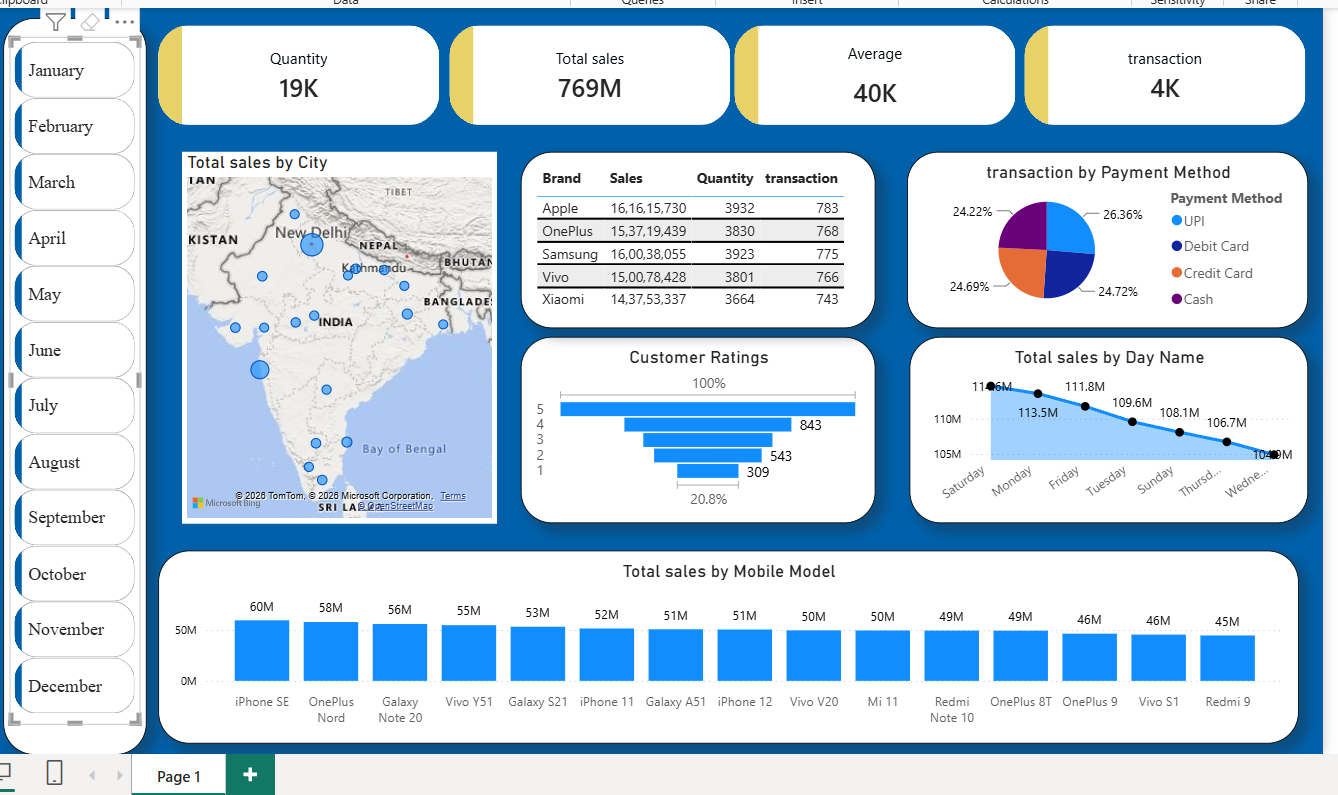

The dashboard page shown, as its layout file describes it:
{"tool":"powerbi","page":{"name":"Page 1","canvas":[1280,720],"ordinal":0},"visuals":[{"type":"shape","box":[5.5,9.6,138.6,710.8],"z":0},{"type":"advancedSlicerVisual","fields":{"Values":["sales data.Date.Variation.Date Hierarchy.Month"]},"box":[12.3,27.4,126.2,664.2],"z":1000},{"type":"cardVisual","fields":{"Data":["sales data.Total sales"]},"box":[419.8,0,305.2,130.3],"z":2000},{"type":"cardVisual","fields":{"Data":["sales data.Average"]},"box":[694.9,0,305.2,130.3],"z":3000},{"type":"cardVisual","fields":{"Data":["sales data.Total quantity"]},"box":[138.7,0,305.2,130.3],"z":4000},{"type":"cardVisual","fields":{"Data":["sales data.transaction"]},"box":[974.8,0,305.2,130.3],"z":5000},{"type":"clusteredColumnChart","fields":{"Category":["sales data.Mobile Model"],"Y":["sales data.Total sales"]},"box":[155.1,524.2,1100.5,186.6],"z":6000},{"type":"pieChart","fields":{"Category":["sales data.Payment Method"],"Y":["sales data.transaction"]},"box":[878.3,138.7,387.3,170.1],"z":7000},{"type":"funnel","title":" Customer Ratings  ","fields":{"Category":["sales data.Customer Ratings"],"Y":["CountNonNull(sales data.Customer Ratings)"]},"box":[505.5,317.3,342.6,179.8],"z":8000},{"type":"areaChart","fields":{"Y":["sales data.Total sales"],"Category":["sales data.Day Name"]},"box":[880.7,317.3,384.9,179.8],"z":9000},{"type":"tableEx","fields":{"Values":["sales data.Brand","sales data.Total sales","sales data.Total quantity","sales data.transaction"]},"box":[505.5,138.7,342.6,170.1],"z":10000},{"type":"map","fields":{"Category":["sales data.City"],"Size":["sales data.Total sales"]},"box":[178.6,138.7,304,358.3],"z":11000}]}

Visuals, with their boxes in screenshot pixels (x1, y1, x2, y2):
shape: pyautogui.locateOnScreen(2, 17, 145, 750)
advancedSlicerVisual - sales data.Date.Variation.Date Hierarchy.Month: pyautogui.locateOnScreen(9, 35, 139, 720)
cardVisual - sales data.Total sales: pyautogui.locateOnScreen(429, 7, 744, 141)
cardVisual - sales data.Average: pyautogui.locateOnScreen(713, 7, 1027, 141)
cardVisual - sales data.Total quantity: pyautogui.locateOnScreen(140, 7, 454, 141)
cardVisual - sales data.transaction: pyautogui.locateOnScreen(1001, 7, 1316, 141)
clusteredColumnChart - sales data.Mobile Model x sales data.Total sales: pyautogui.locateOnScreen(156, 547, 1291, 740)
pieChart - sales data.Payment Method x sales data.transaction: pyautogui.locateOnScreen(902, 150, 1301, 325)
" Customer Ratings  " funnel: pyautogui.locateOnScreen(518, 334, 871, 519)
areaChart - sales data.Total sales x sales data.Day Name: pyautogui.locateOnScreen(904, 334, 1301, 519)
tableEx - sales data.Brand x sales data.Total sales: pyautogui.locateOnScreen(518, 150, 871, 325)
map - sales data.City x sales data.Total sales: pyautogui.locateOnScreen(181, 150, 494, 519)
